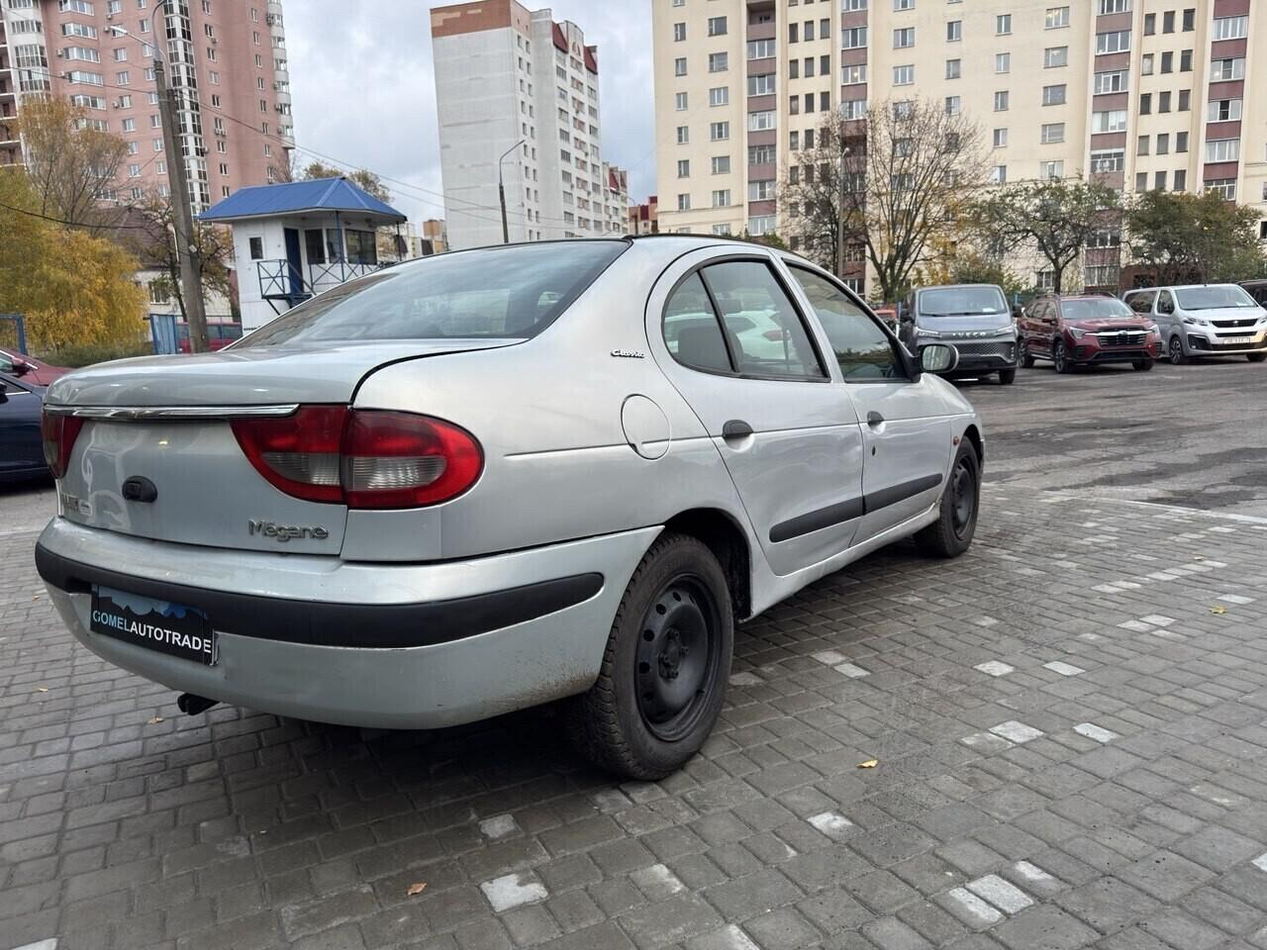Megane_1999-2003: (28, 230, 1001, 768)
